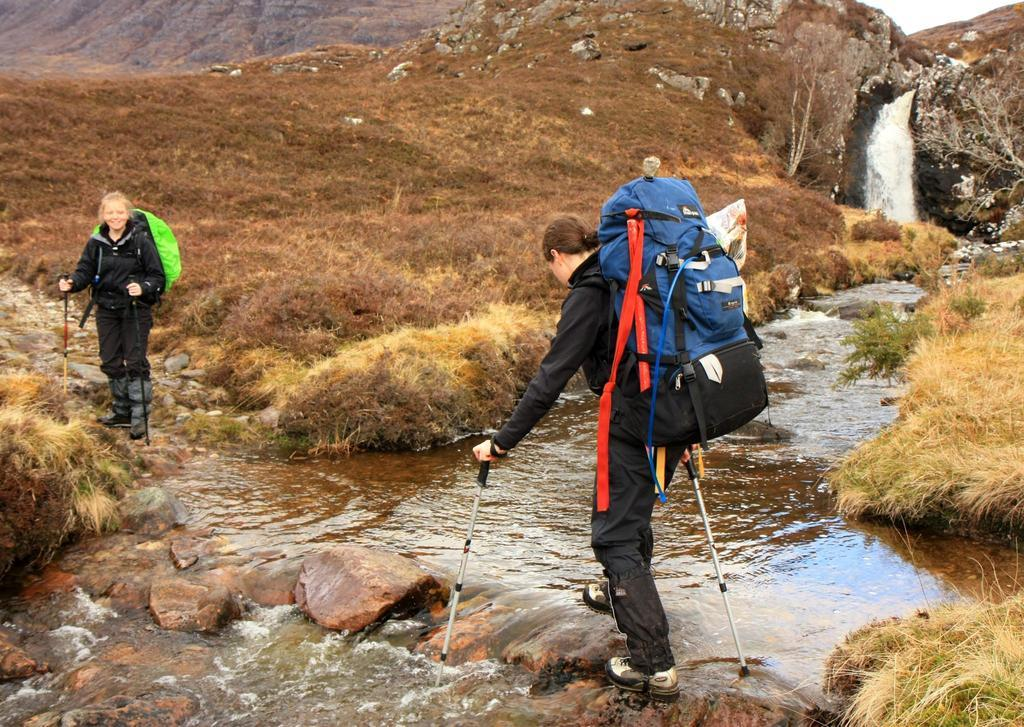Luggage-and-bags: (600, 176, 767, 518), (88, 208, 187, 293)
